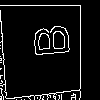B: (24, 22, 70, 59)
